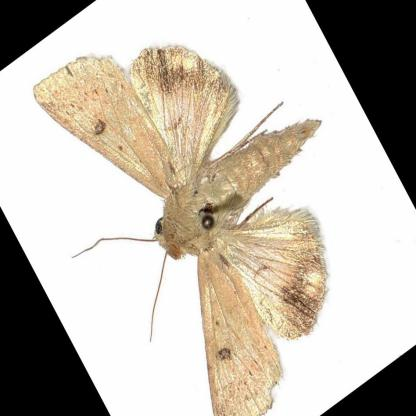helicoverpa: (35, 44, 329, 415)
